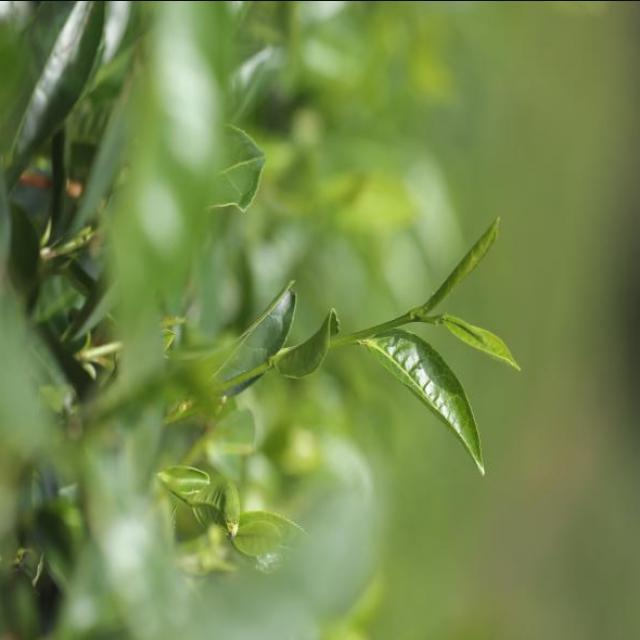Stem: (400, 312, 413, 324)
